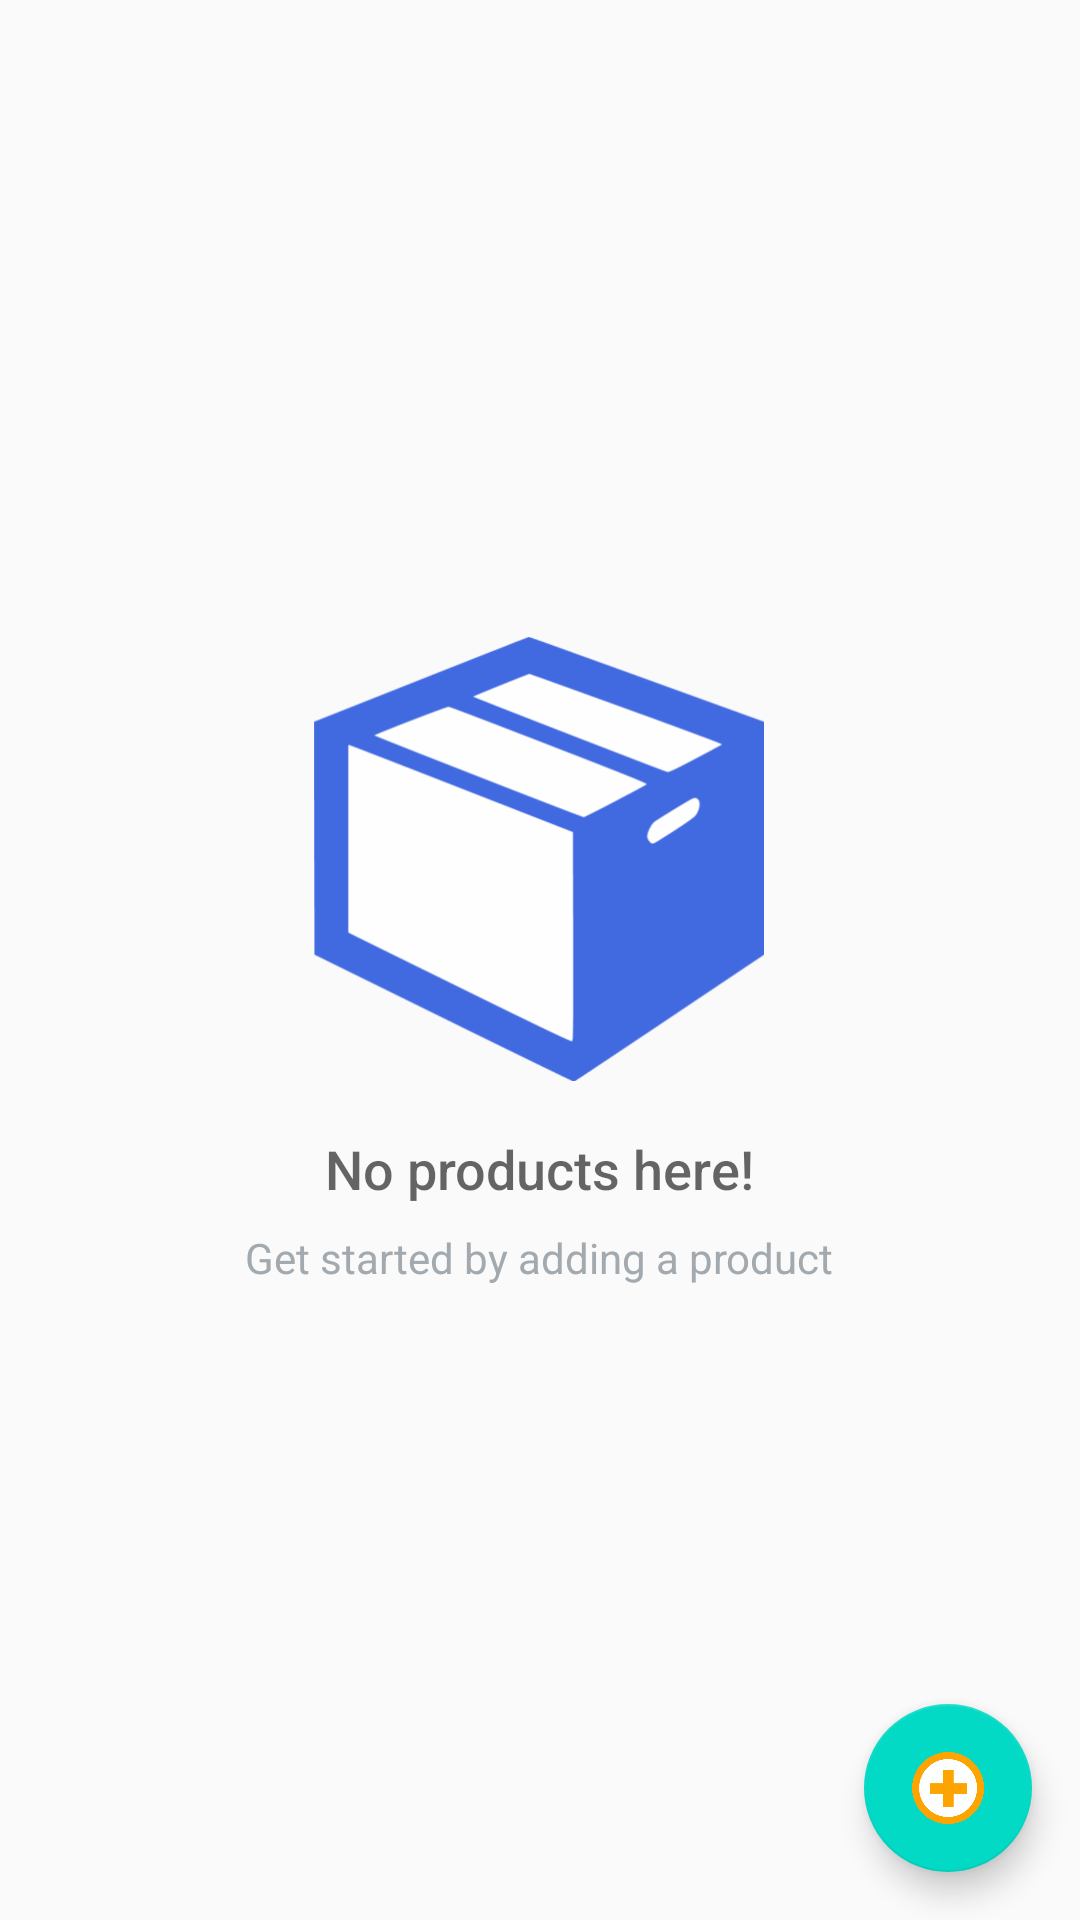

Icons on this 1080×1920 Android screen, each with its box as (x1, y1, x2, y2):
add product: (864, 1704, 1032, 1872)
